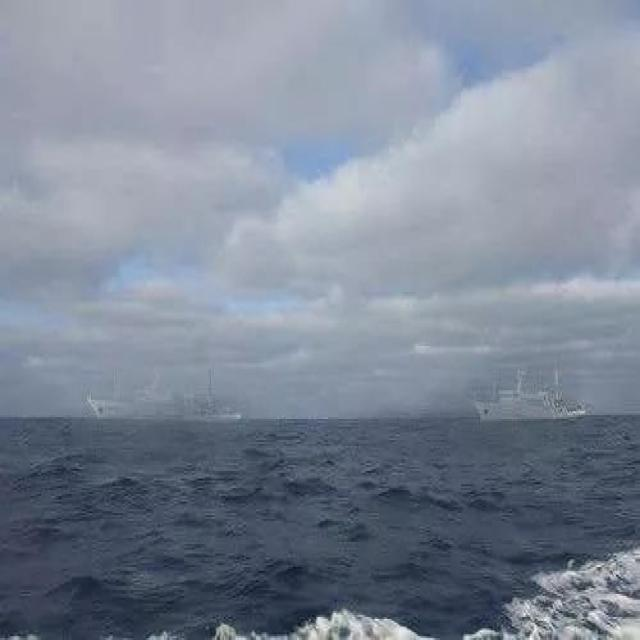passenger ship: (81, 359, 245, 426), (465, 366, 594, 424)
